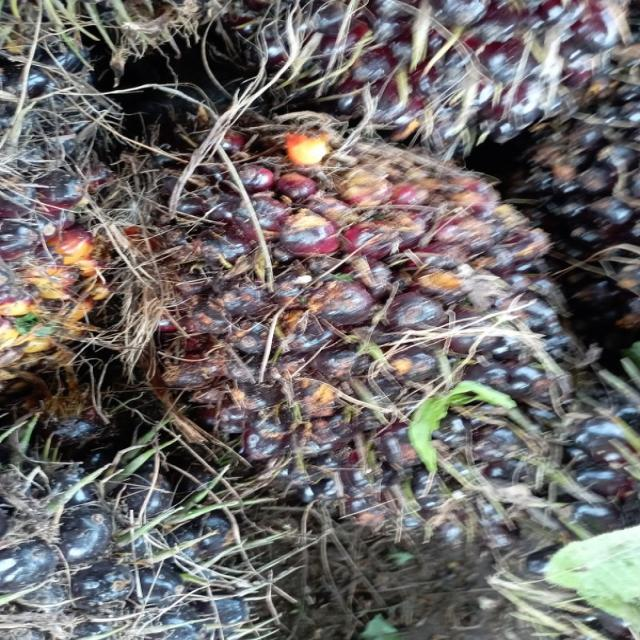fraksi 00: (148, 110, 605, 547)
